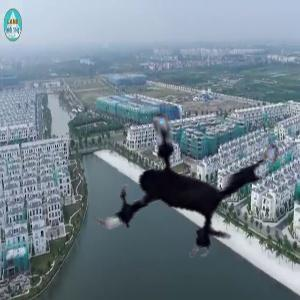drone: (73, 64, 294, 285)
